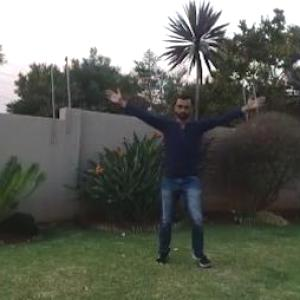takeoff: (102, 86, 278, 267)
